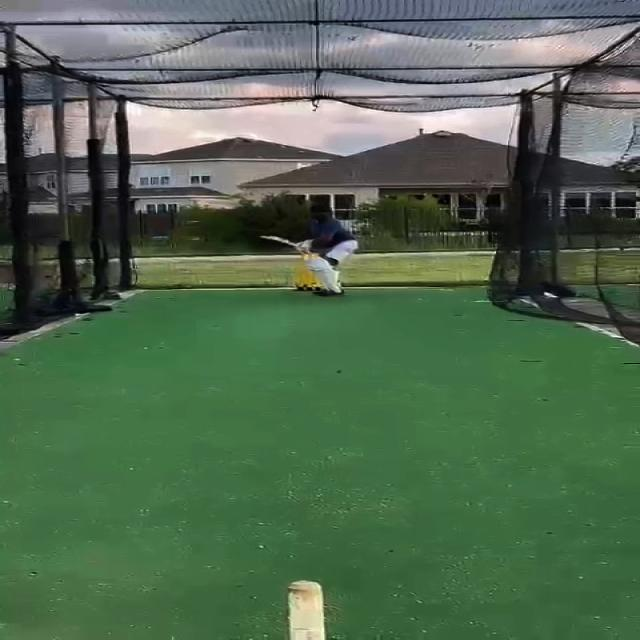batsman: (258, 204, 362, 298)
